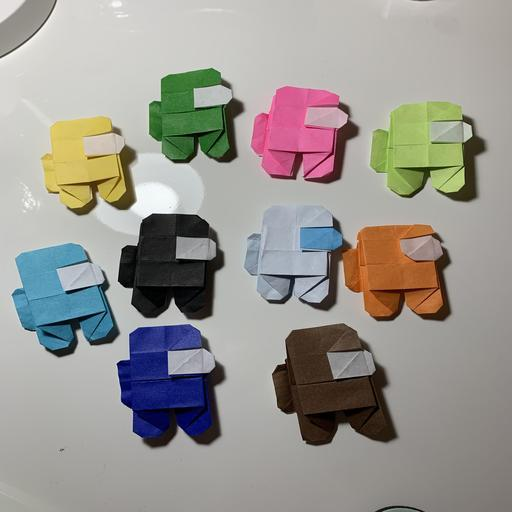Crewmate: (114, 323, 223, 443), (272, 322, 381, 442), (10, 239, 116, 351), (118, 209, 224, 321), (240, 197, 346, 309), (345, 214, 451, 326), (250, 81, 351, 181), (370, 98, 471, 198), (41, 115, 130, 214), (147, 65, 236, 164)
